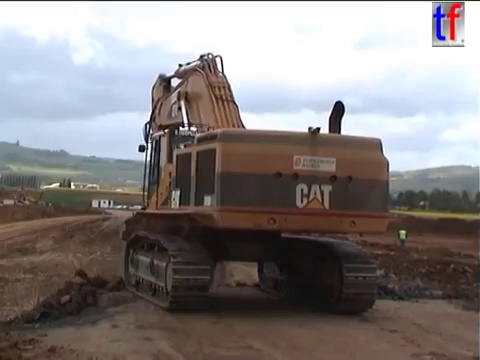excavator: (116, 50, 394, 317), (8, 189, 38, 209)
worker: (396, 224, 410, 249)
